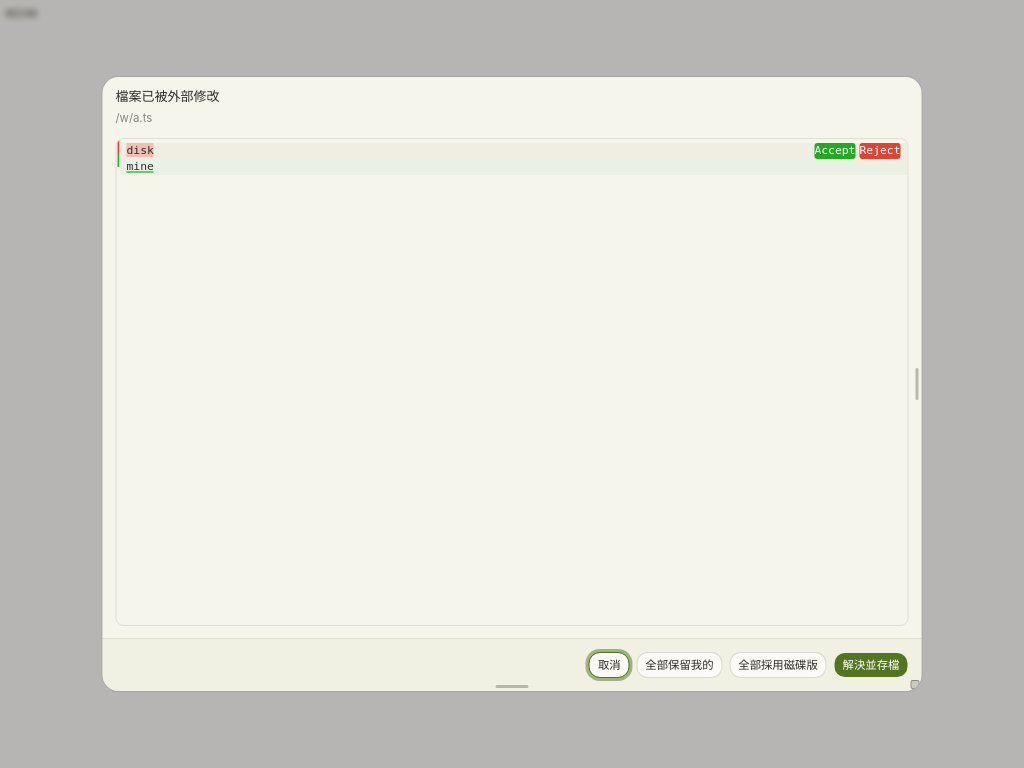
Scenario: does not publish a late resolver save after view changes its owner
Expected: the button "解決並存檔" is enabled, x1=833 y1=652 x2=908 y2=678
Step 1. Click the button "全部採用磁碟版" → (778, 665), box x1=729 y1=652 x2=827 y2=678
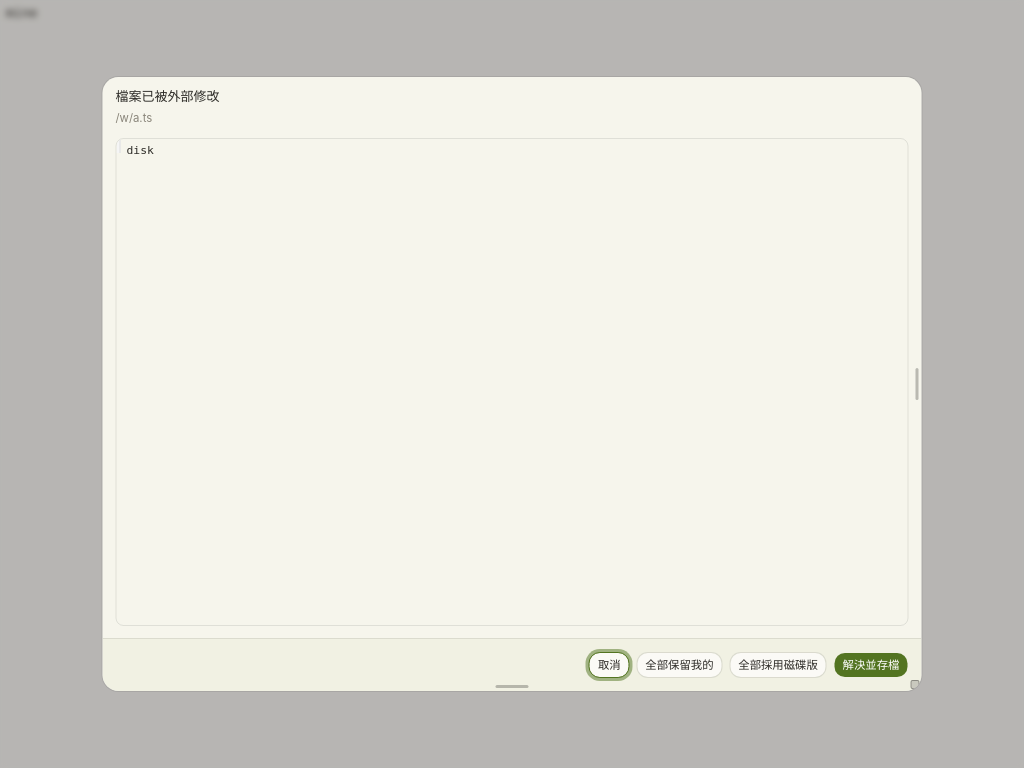
Step 2. Click the button "解決並存檔" → (871, 665), box x1=833 y1=652 x2=908 y2=678
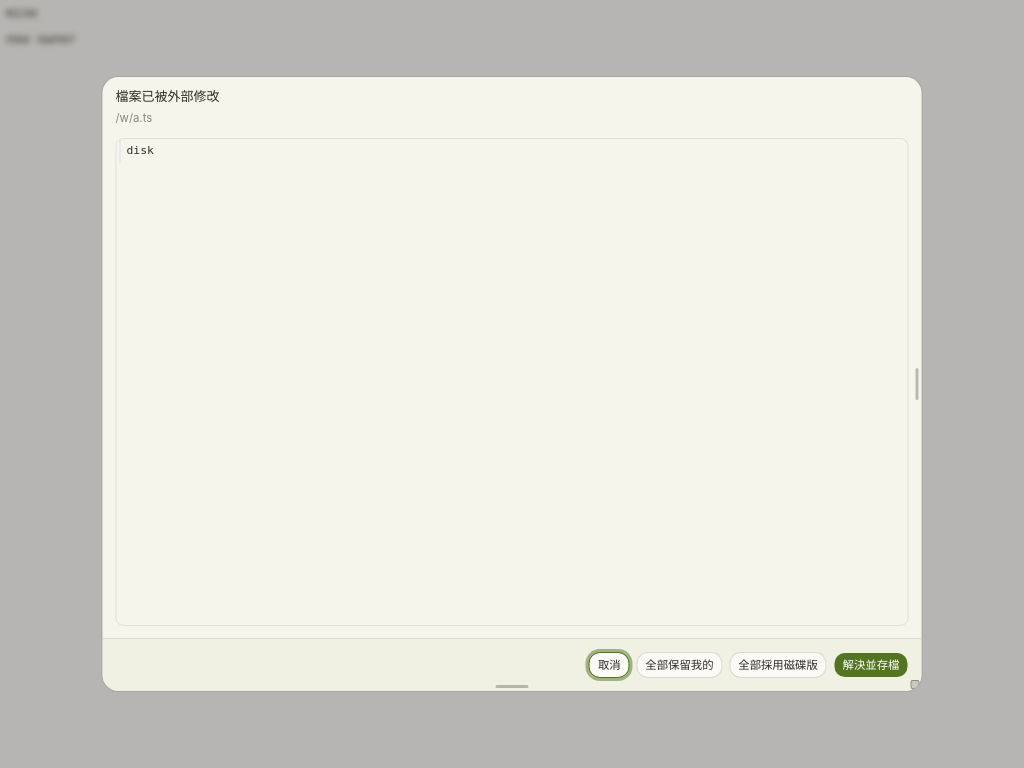
Expected: the text "/w/a.ts" is shown, x1=116 y1=110 x2=152 y2=124
Now the text box labelled "new owner" is shown, box x1=6 y1=31 x2=76 y2=46
